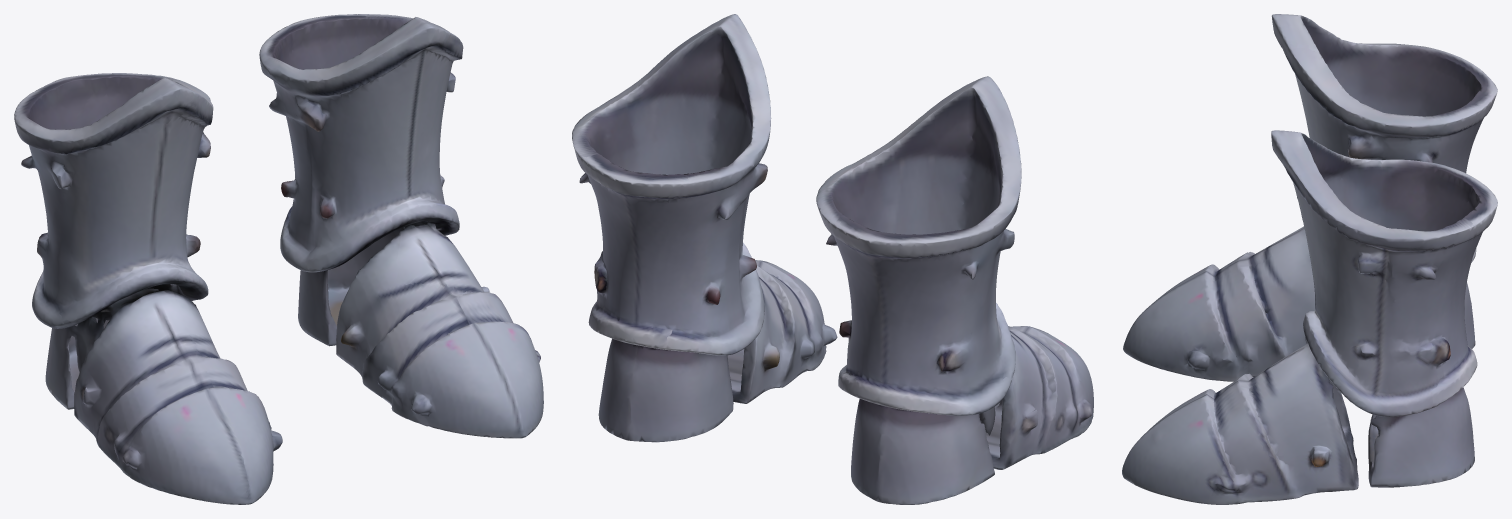
Rendered from bota-guerreiro.glb.
The picture shows the model from 3 angles, left to right: view 1: azimuth 30°, elevation 25°; view 2: azimuth 150°, elevation 25°; view 3: azimuth 270°, elevation 25°; orthographic projection. The views are drawn at different scales.
Visible parts, largest first — view 1: tripo_node_87190bf8-aa2e-47ce-9bee-60b53f8eb02c.001; view 2: tripo_node_87190bf8-aa2e-47ce-9bee-60b53f8eb02c.001; view 3: tripo_node_87190bf8-aa2e-47ce-9bee-60b53f8eb02c.001.
Part boxes in pixels (x1,y1,x2,y2): tripo_node_87190bf8-aa2e-47ce-9bee-60b53f8eb02c.001: (14, 14, 543, 504); tripo_node_87190bf8-aa2e-47ce-9bee-60b53f8eb02c.001: (572, 14, 1093, 504); tripo_node_87190bf8-aa2e-47ce-9bee-60b53f8eb02c.001: (1122, 14, 1497, 504).
Bounding box in the file's own units: 0.1739 × 0.1407 × 0.1411.
Materials: 1 (1 with a texture image).
